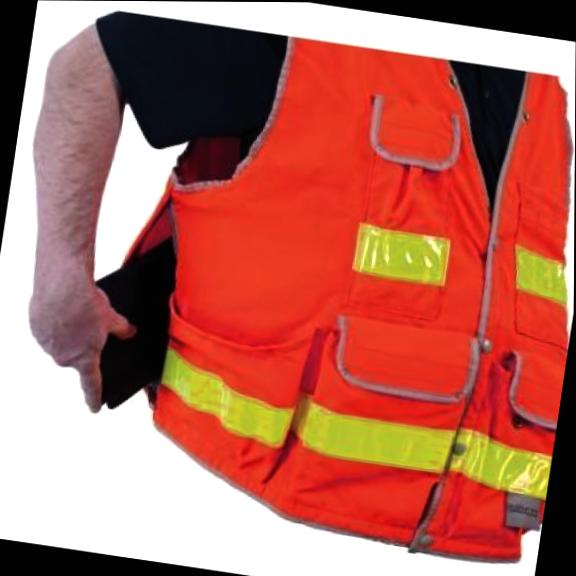safety_vest: (87, 15, 576, 573)
